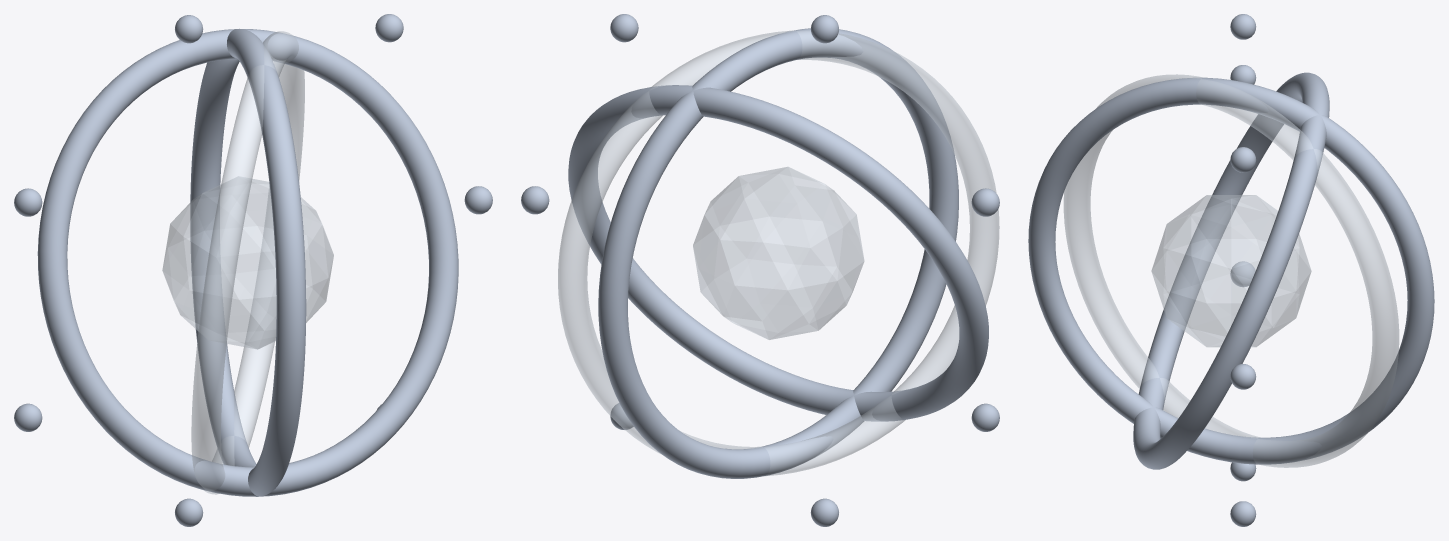
Rendered from glass-citadel-pearl.glb.
The picture shows the model from 3 angles, left to right: view 1: azimuth 30°, elevation 25°; view 2: azimuth 150°, elevation 25°; view 3: azimuth 270°, elevation 25°; orthographic projection. The views are drawn at different scales.
Parts seen in each view (by area): view 1: Meridian gold, Oblique gold, Equatorial ice, Faceted institutional heart, Council node 05, Council node 01, Council node 04, Council node 06, Council node 02, Council node 03; view 2: Oblique gold, Meridian gold, Equatorial ice, Faceted institutional heart, Council node 05, Council node 01, Council node 04, Council node 06, Council node 02, Council node 03; view 3: Oblique gold, Equatorial ice, Meridian gold, Faceted institutional heart, Council node 02, Council node 03, Council node 07, Council node 01, Council node 05.
Boxes of the visible parts, box(x1,y1,x2,y2) form: Meridian gold: box(37, 29, 458, 496); Oblique gold: box(190, 28, 306, 496); Equatorial ice: box(191, 31, 304, 494); Faceted institutional heart: box(162, 176, 333, 349); Council node 05: box(14, 403, 42, 431); Council node 01: box(464, 186, 492, 214); Council node 04: box(14, 188, 42, 216); Council node 06: box(175, 498, 203, 526); Council node 02: box(375, 14, 403, 42); Council node 03: box(175, 15, 203, 43); Oblique gold: box(598, 28, 958, 478); Meridian gold: box(568, 85, 988, 421); Equatorial ice: box(558, 30, 999, 476); Faceted institutional heart: box(693, 167, 864, 339); Council node 05: box(971, 403, 999, 431); Council node 01: box(521, 186, 549, 214); Council node 04: box(971, 188, 999, 216); Council node 06: box(810, 498, 838, 526); Council node 02: box(610, 14, 638, 42); Council node 03: box(810, 15, 838, 43); Oblique gold: box(1028, 77, 1434, 464); Equatorial ice: box(1063, 74, 1399, 467); Meridian gold: box(1133, 72, 1329, 469); Faceted institutional heart: box(1151, 195, 1311, 347); Council node 02: box(1230, 147, 1256, 172); Council node 03: box(1230, 14, 1256, 39); Council node 07: box(1230, 501, 1256, 526); Council node 01: box(1230, 364, 1256, 389); Council node 05: box(1230, 261, 1255, 286).
Bounding box in the file's own units: 4.25 × 4.35 × 3.45.
